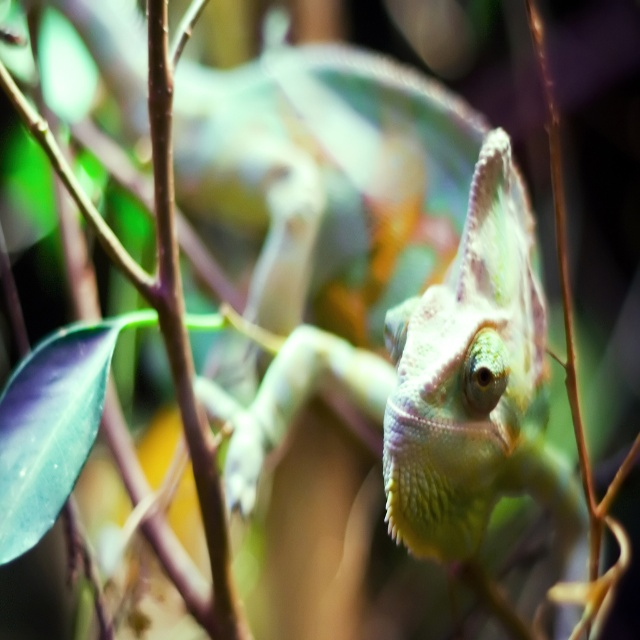Lizard: (53, 0, 549, 564)
